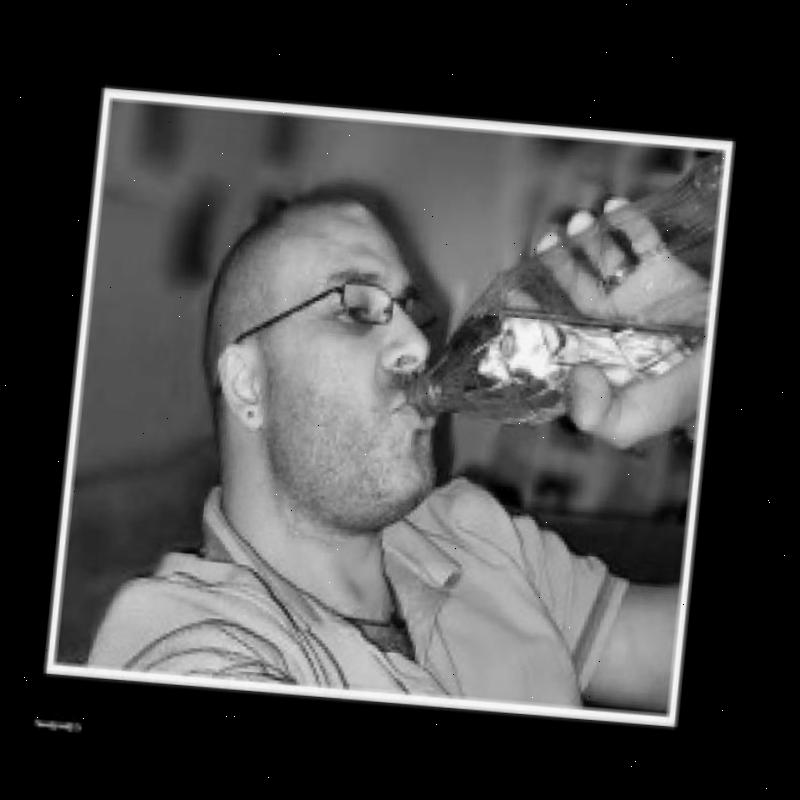botella: (406, 123, 726, 435)
